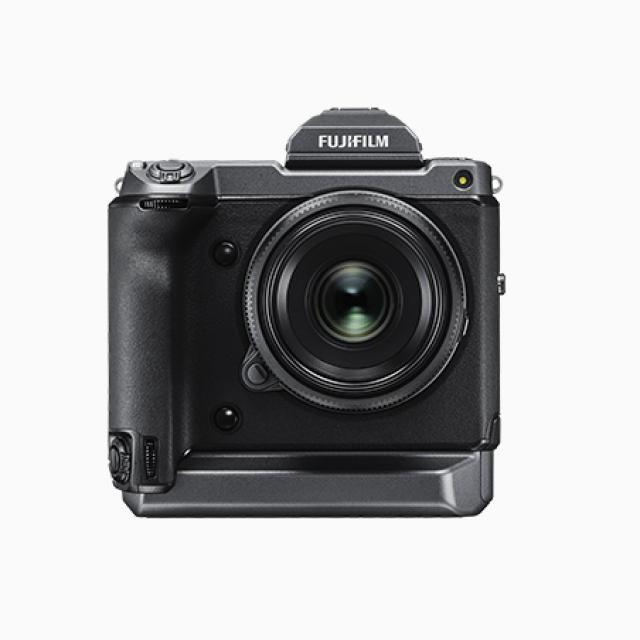hidden camera: (271, 225, 444, 386)
